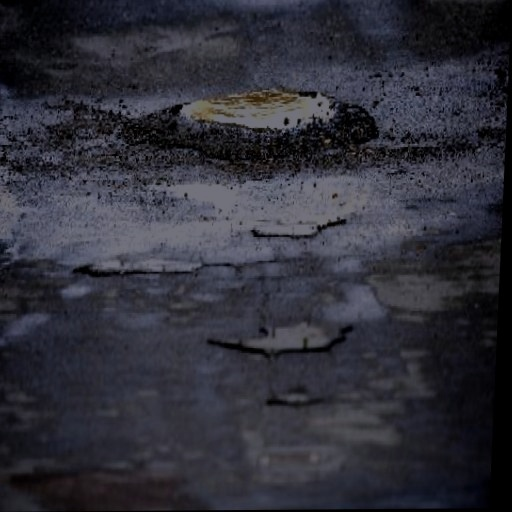pothole: (123, 90, 382, 170), (207, 321, 355, 358), (75, 263, 205, 283), (252, 218, 348, 241), (265, 393, 326, 411)
